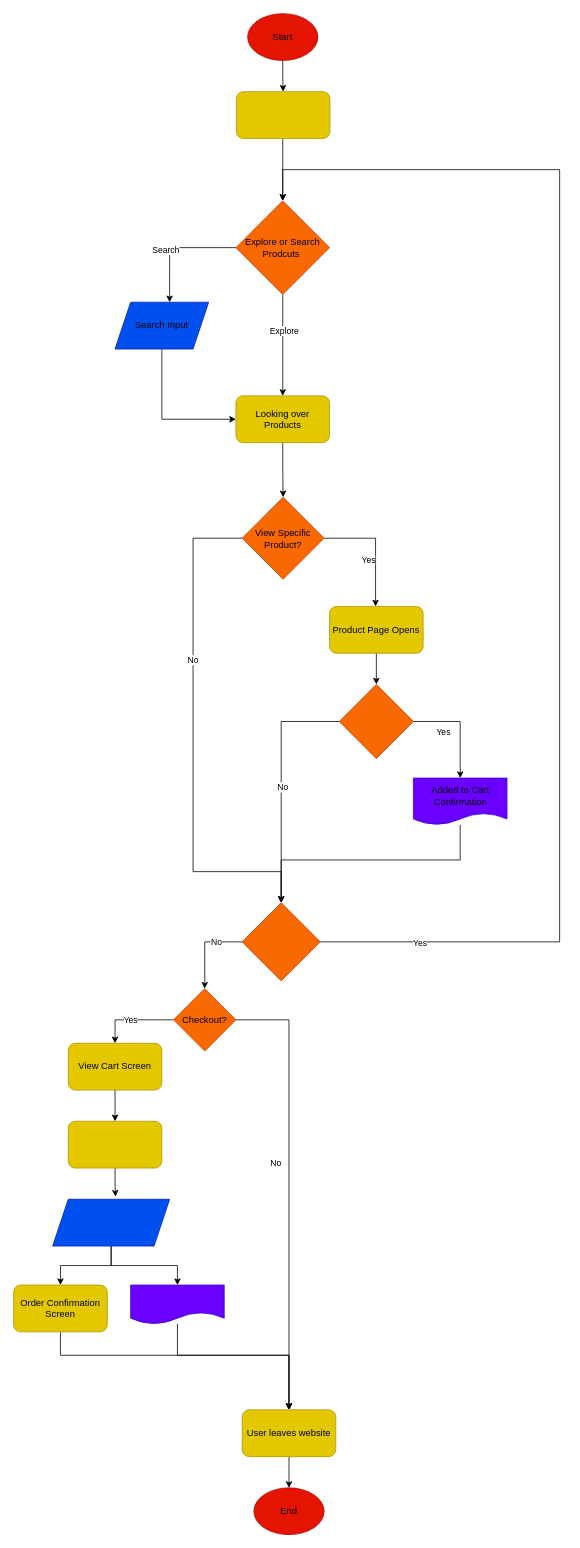
Some shapes in this 580 by 1548 pixel diagram are drawn without their labels. The box of each missing label's shape, as (x1, y1, x2, y2) in pixels:
Add Item to Cart?: (339, 684, 413, 759)
Continue Shopping?: (241, 902, 320, 981)
Order Email: (130, 1284, 224, 1324)
Payment Information Input: (52, 1198, 170, 1246)
User enters website: (236, 91, 330, 138)
View Payment Screen: (67, 1120, 162, 1168)
